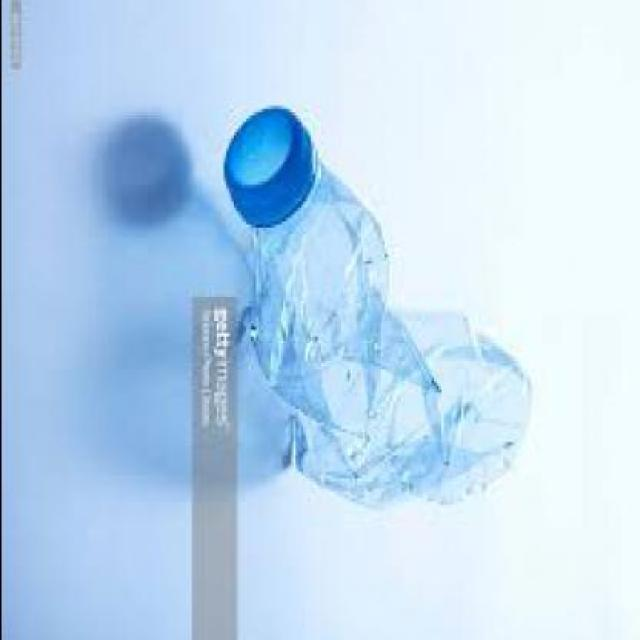PLASTIC: (224, 102, 534, 506), (225, 99, 321, 228)
